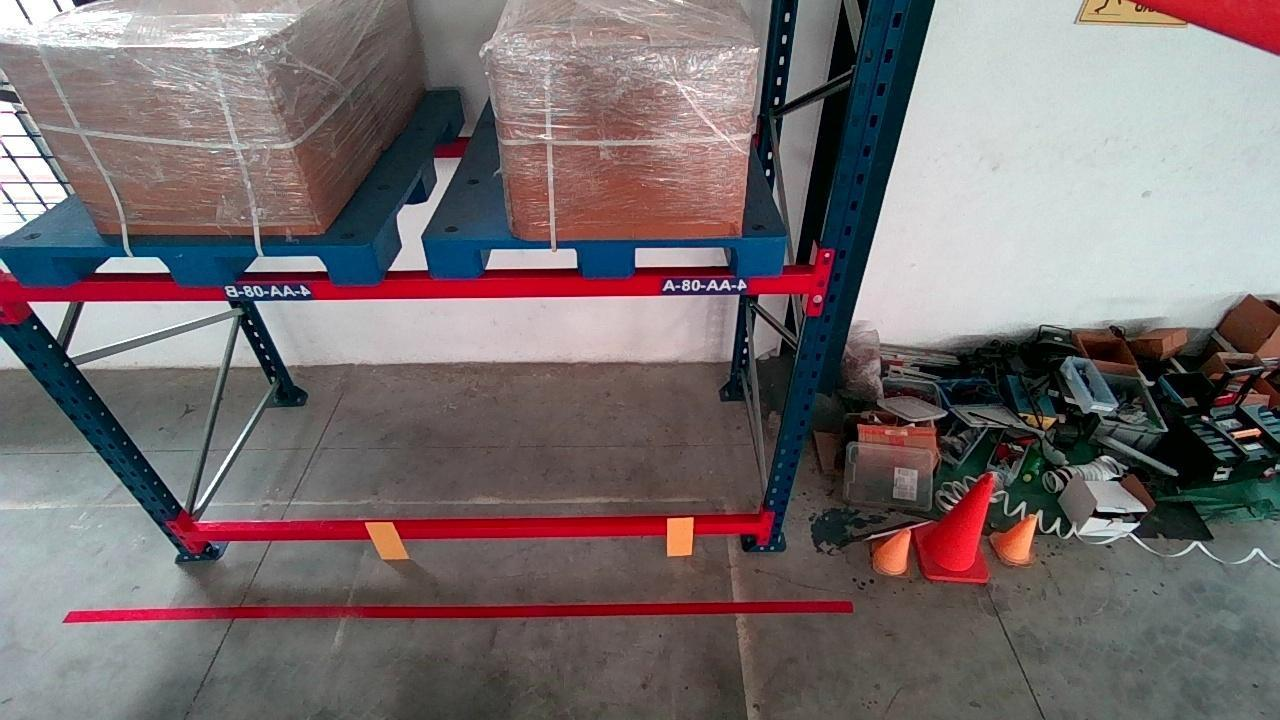h_rack: (3, 271, 821, 301), (192, 517, 761, 546)
orange_strip: (367, 519, 407, 559), (665, 517, 696, 554)
red_line: (62, 600, 853, 623)
small_pallet: (17, 241, 378, 284), (436, 236, 782, 277)
